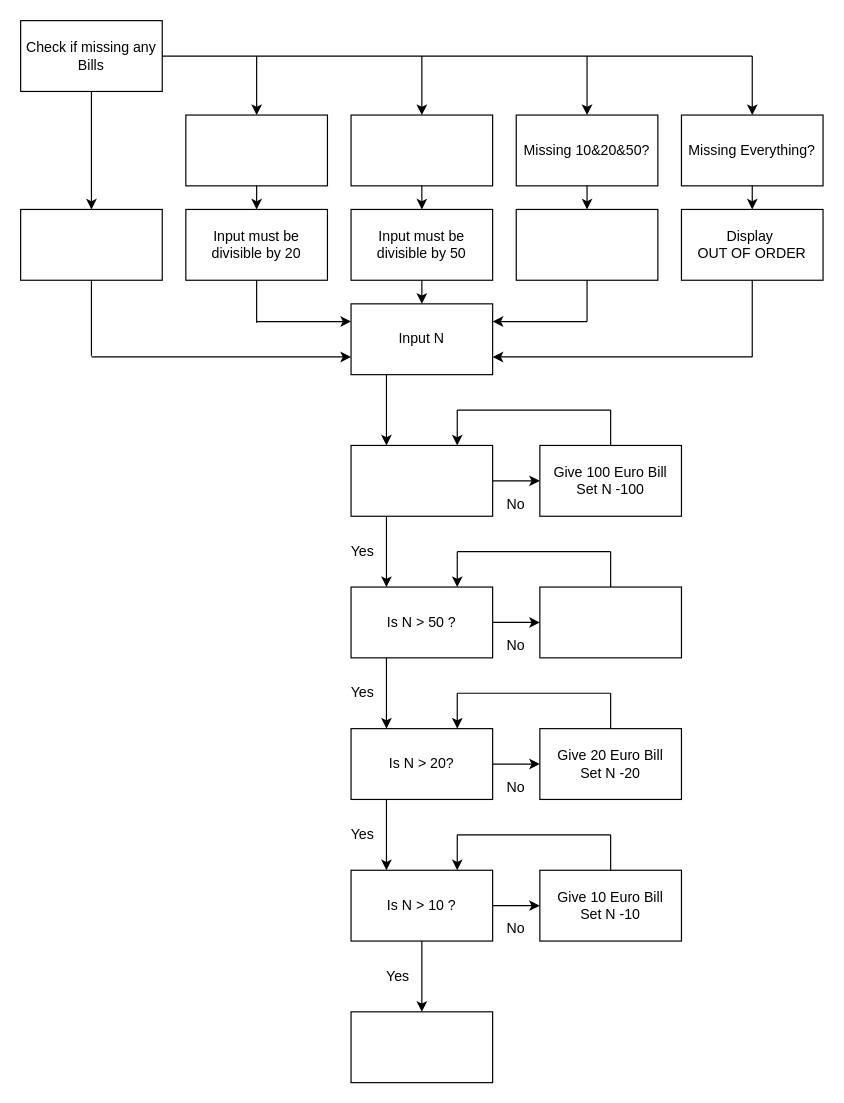
This 844x1103 diagram has some shape labels left out. Here are the shapes that lost their labels. From the top down, the box of each, then its label:
(185, 114, 327, 186): Missing 10?
(350, 114, 493, 186): Missing 10&20?
(19, 208, 162, 280): Input must be divisible by 10
(515, 208, 658, 280): Input must be divisible by 100
(350, 444, 493, 516): Is N > 100 ?
(539, 586, 681, 658): Give 50 Euro Bill Set N -50
(350, 1011, 493, 1083): Finished!, Please Remove your card
